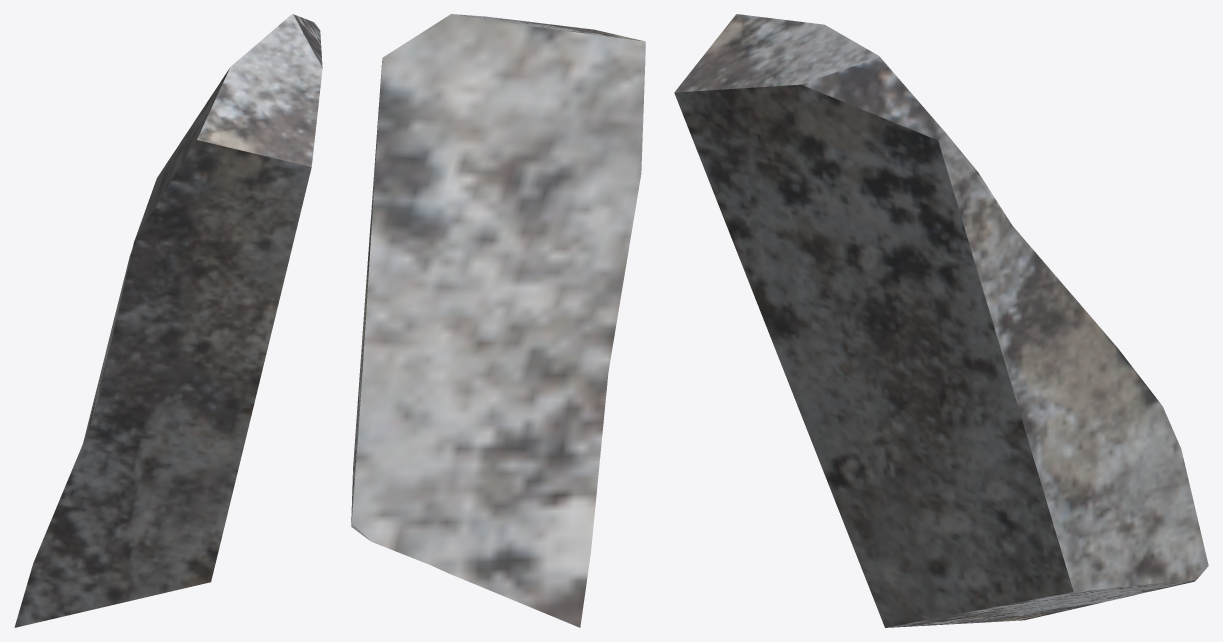
The model's file is Asteroid_Large_001_02_003_03_009.fbx.
The picture shows the model from 3 angles, left to right: view 1: azimuth 30°, elevation 25°; view 2: azimuth 150°, elevation 25°; view 3: azimuth 270°, elevation 25°; orthographic projection. The views are drawn at different scales.
Visible parts, largest first — view 1: Asteroid_Large_001_02_003_03_009; view 2: Asteroid_Large_001_02_003_03_009; view 3: Asteroid_Large_001_02_003_03_009.
Part boxes in pixels (<box>): Asteroid_Large_001_02_003_03_009: <box>14,14,322,627</box>; Asteroid_Large_001_02_003_03_009: <box>351,14,645,627</box>; Asteroid_Large_001_02_003_03_009: <box>674,14,1208,627</box>.
Size of the model in its own units: 3.9 by 8.49 by 6.05.
